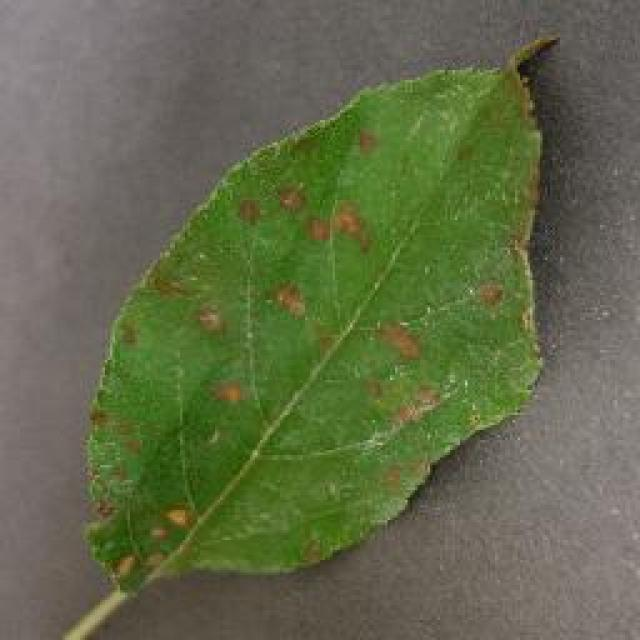apple healthy: (78, 30, 562, 598)
